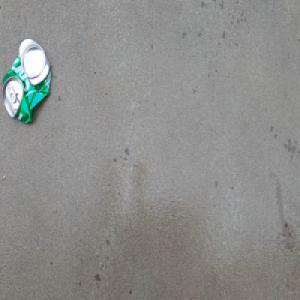SodaCan: (1, 35, 52, 125)
